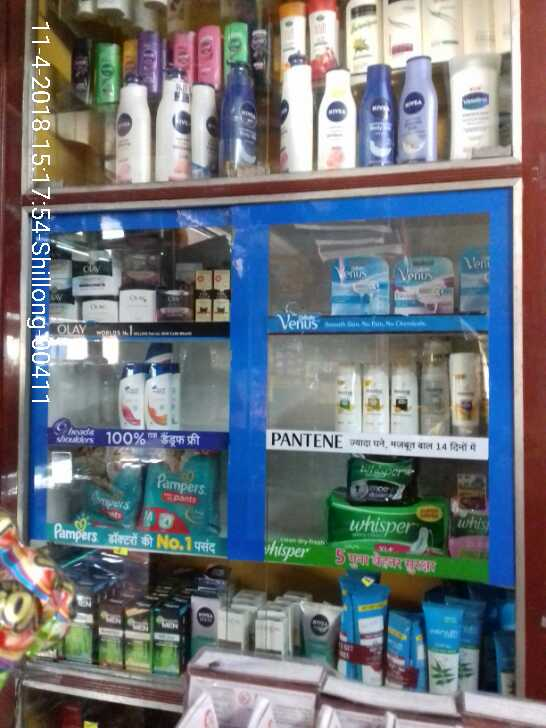venus: (330, 252, 388, 317), (395, 257, 456, 313), (461, 250, 491, 311)
